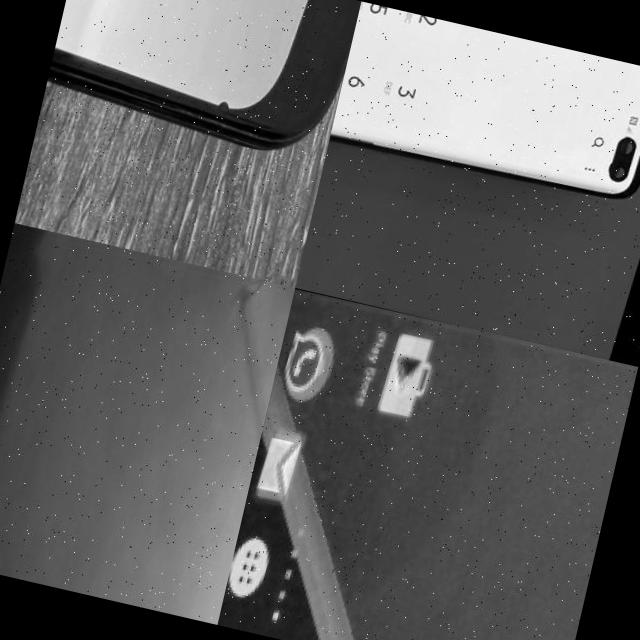dead pixel: (190, 59, 270, 152), (599, 158, 624, 192)
screen crack: (140, 266, 294, 540)
